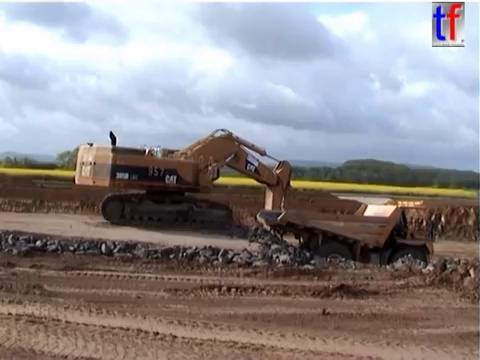excavator: (71, 126, 295, 253)
truck: (253, 196, 439, 284)
